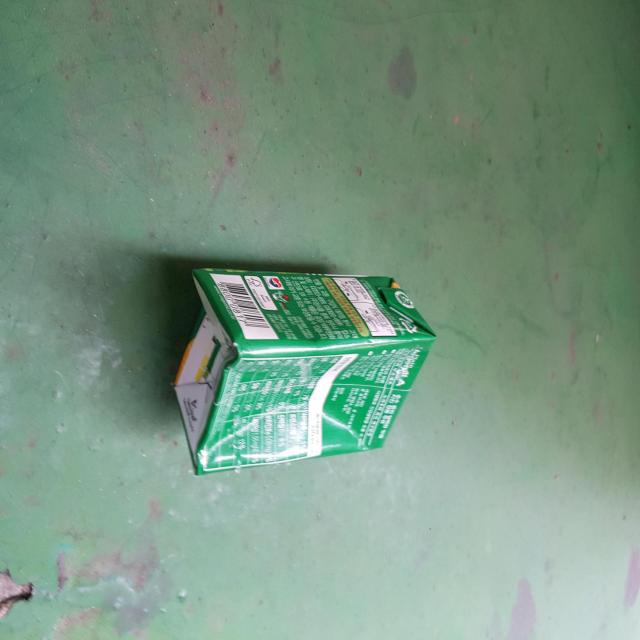paperpack: (175, 268, 436, 474)
